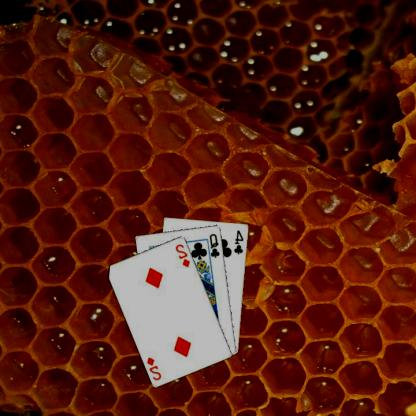2D: (146, 354, 164, 382), (174, 242, 193, 268)
4C: (233, 228, 247, 255)
QC: (209, 231, 223, 259)
